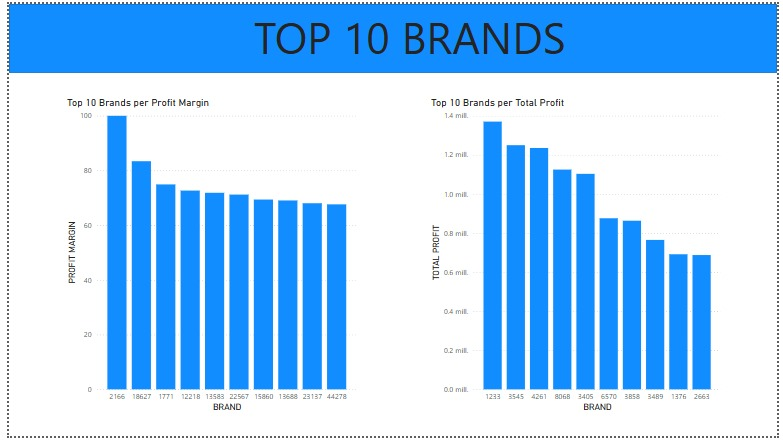

The dashboard page shown, as its layout file describes it:
{"tool":"powerbi","page":{"name":"Top 10 Brands","canvas":[1280,720],"ordinal":0},"visuals":[{"type":"shape","box":[0,0,1279.8,114.6],"z":0},{"type":"columnChart","title":"Top 10 Brands per Profit Margin","fields":{"Category":["TOP_10_BRANDS_PER_PROFIT_MARGIN.BRAND"],"Y":["Sum(TOP_10_BRANDS_PER_PROFIT_MARGIN.BRAND_PROFIT_MARGIN)"]},"box":[91.1,152.8,492.2,531.9],"z":1000},{"type":"columnChart","title":"Top 10 Brands per Total Profit","fields":{"Category":["TOP_10_BRANDS_PER_TOTAL_PROFIT.BRAND"],"Y":["Sum(TOP_10_BRANDS_PER_TOTAL_PROFIT.BRAND_TOTAL_PROFIT)"]},"box":[698,152.8,492.2,531.9],"z":2000},{"type":"textbox","box":[403.3,0,540.3,115.2],"z":3000}]}

Visuals, with their boxes in screenshot pixels (x1, y1, x2, y2), scaled from the page's 1280x720 canvas onto the 783x441 screenshot:
shape: rect(0, 0, 782, 70)
"Top 10 Brands per Profit Margin" columnChart: rect(56, 94, 357, 419)
"Top 10 Brands per Total Profit" columnChart: rect(427, 94, 728, 419)
textbox: rect(247, 0, 577, 71)
